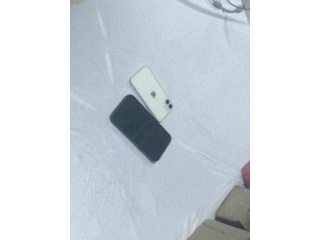phone: (108, 94, 172, 164), (128, 65, 173, 121)
